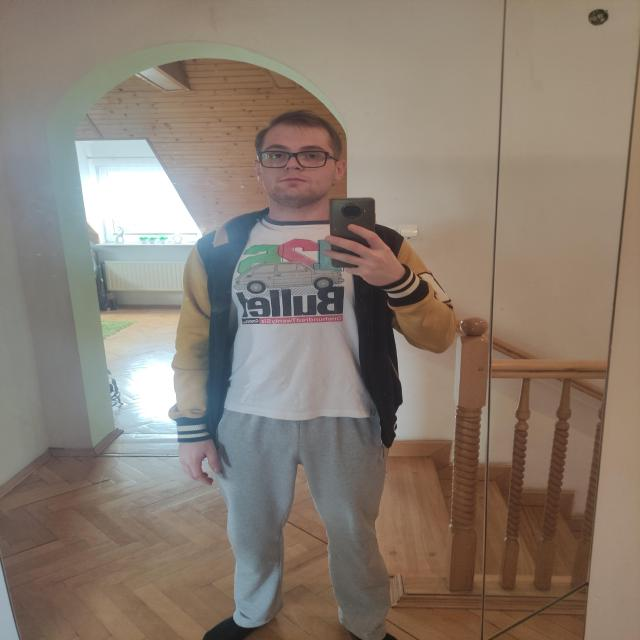Tshirt: (200, 217, 398, 421)
pants: (215, 397, 392, 640)
sweater: (168, 207, 458, 447)
